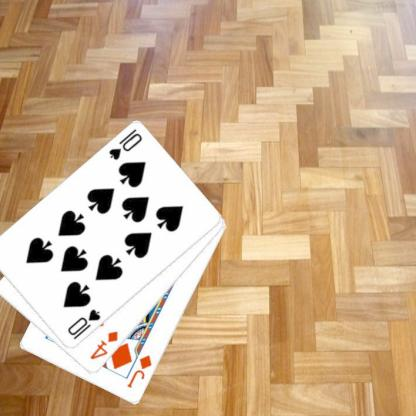10S: (106, 127, 144, 162), (65, 307, 102, 341)
4D: (87, 328, 119, 362)
JD: (124, 352, 153, 390)
